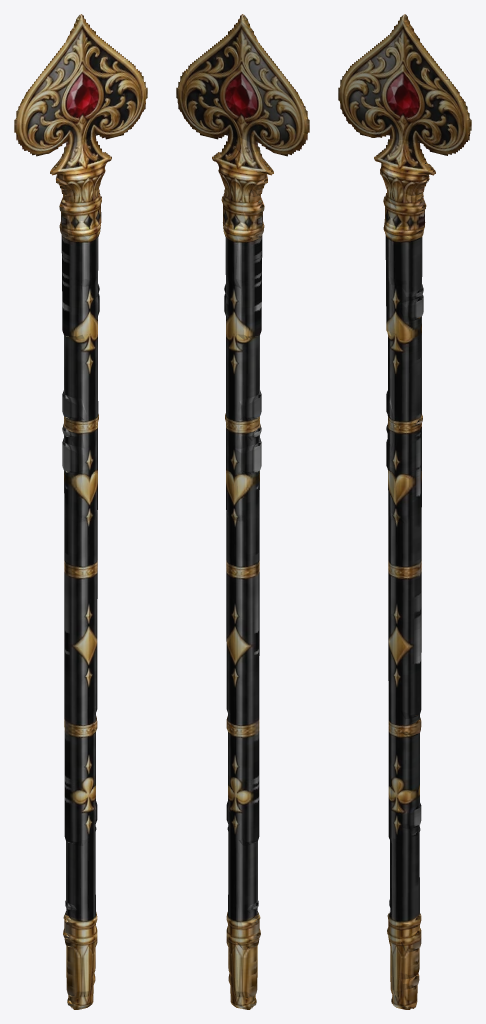
Rendered from w_cane_royal.glb.
3 renders of one model, left to right at view 1: azimuth 30°, elevation 25°; view 2: azimuth 150°, elevation 25°; view 3: azimuth 330°, elevation 25°, orthographic.
Visible parts, largest first — view 1: RoyalFlush; view 2: RoyalFlush; view 3: RoyalFlush.
Part boxes in pixels (x1=…): RoyalFlush: x1=14, y1=14, x2=147, y2=1009; RoyalFlush: x1=176, y1=14, x2=309, y2=1009; RoyalFlush: x1=338, y1=14, x2=471, y2=1009.
Bounding box in the file's own units: 0.1409 × 1 × 0.0386.
Materials: 1 (1 with a texture image).
